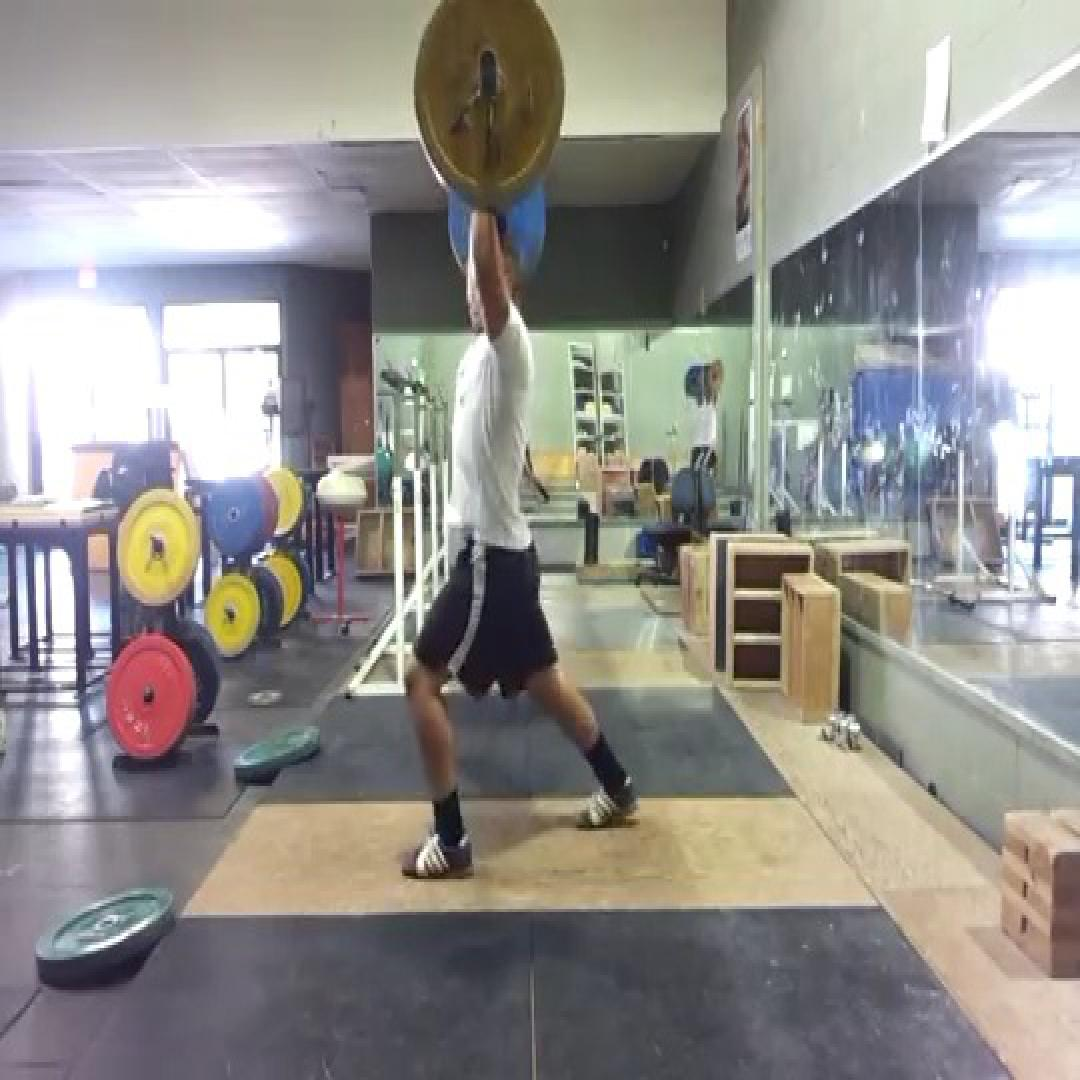Bar: (476, 46, 500, 78)
Barbell: (412, 0, 566, 204)
